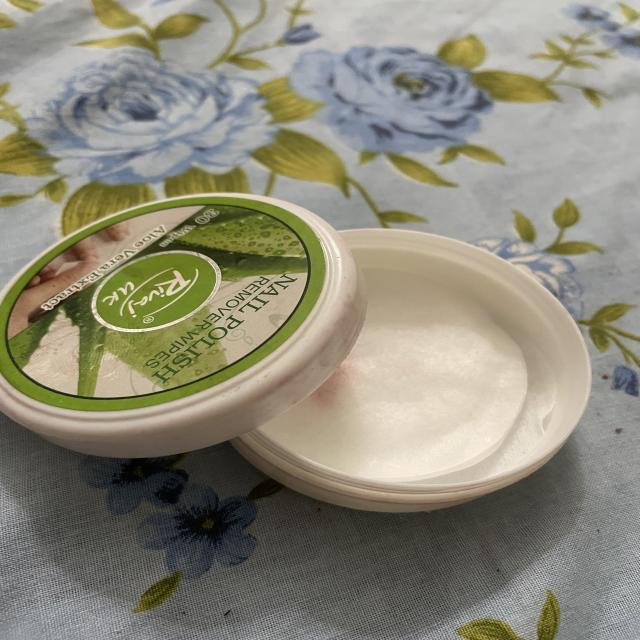nail polish remover: (195, 228, 612, 523)
